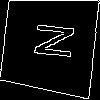N: (24, 20, 76, 61)
